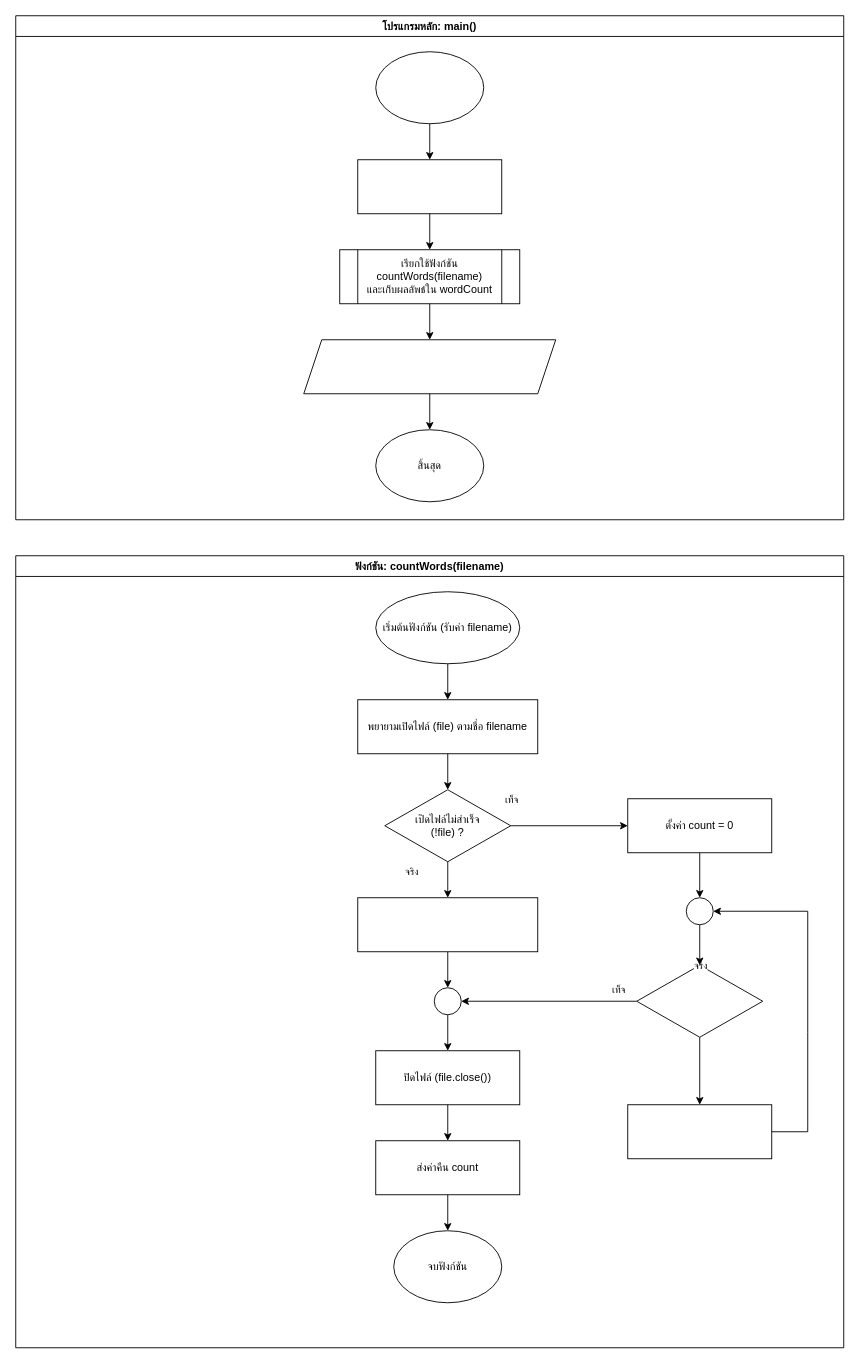
Image size: 860x1364. Some labels were removed from this diagram. Here are the shapes that lost their labels. From the top down, the box of each, then its label:
(375, 51, 484, 124): เริ่มต้น
(357, 159, 502, 214): กำหนด filename = "68.txt"
(303, 339, 556, 394): แสดงผล: "จำนวนคำในไฟล์ [filename] คือ [wordCount]"
(357, 897, 538, 952): ส่งค่าคืน 0
(636, 964, 763, 1037): อ่านคำต่อไปจากไฟล์ได้สำเร็จ (file >> word) ?
(627, 1104, 772, 1159): เพิ่มค่า count ขึ้น 1
